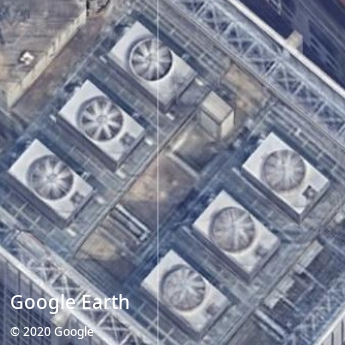Vent: (212, 207, 255, 251), (263, 148, 306, 192), (130, 39, 173, 82), (80, 99, 123, 142), (30, 157, 73, 200), (163, 268, 206, 311)
